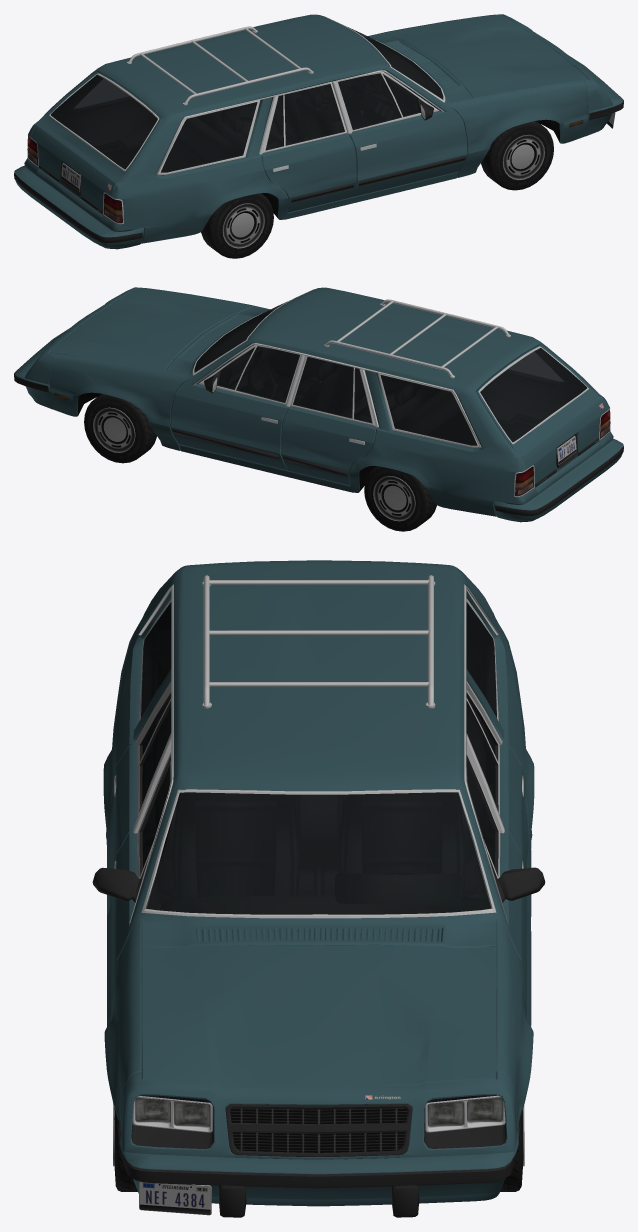
File: wagon.glb
3 renders of one model, top to bottom at view 1: azimuth 30°, elevation 25°; view 2: azimuth 150°, elevation 25°; view 3: azimuth 270°, elevation 25°, orthographic. The views are drawn at different scales.
Parts seen in each view (by area): view 1: Fairheaven_SW80_body001_Fairheaven_LT80_Bodymat_0, Fairheaven_SW80_Interior001_UCB_Interior_Trim_0, Fairheaven_LT84_Hood001_Fairheaven_LT80_Bodymat_0, Fairheaven_SW80_Glass_Body001_UCB_Lights_and_Glass_Transpere, Fairheaven_LT80_Interior_Trim005_UCB_Interior_Trim_0, Fairheaven_SW80_Glass_Rear001_UCB_Lights_and_Glass_Transpere, Fairheaven_SW84_Trim_UCB_BOTTOM_GT_0, Fairheaven_LT80_Trunkdoor001_Fairheaven_LT80_Bodymat_0, Fairheaven_LT80_WheelStock_FR002_RB1c_Tire_1k_0, Fairheaven_LT80_WheelStock_RR002_RB1c_Tire_1k_0, Fairheaven_LT80_Glass_Passanger007_UCB_Lights_and_Glass_Tran, Fairheaven_LT84_Bumper_Rear001_Fairheaven_LT80_Bodymat_0 (+10 smaller); view 2: Fairheaven_SW80_body001_Fairheaven_LT80_Bodymat_0, Fairheaven_SW80_Interior001_UCB_Interior_Trim_0, Fairheaven_LT84_Hood001_Fairheaven_LT80_Bodymat_0, Fairheaven_SW80_Glass_Body001_UCB_Lights_and_Glass_Transpere, Fairheaven_LT80_Interior_Trim005_UCB_Interior_Trim_0, Fairheaven_SW80_Glass_Rear001_UCB_Lights_and_Glass_Transpere, Fairheaven_SW84_Trim_UCB_BOTTOM_GT_0, Fairheaven_LT80_Trunkdoor001_Fairheaven_LT80_Bodymat_0, Fairheaven_LT80_WheelStock_FL002_RB1c_Tire_1k_0, Fairheaven_LT80_WheelStock_RL002_RB1c_Tire_1k_0, Fairheaven_LT80_Glass_Driver007_UCB_Lights_and_Glass_Transpe, Fairheaven_LT84_Bumper_Rear001_Fairheaven_LT80_Bodymat_0 (+11 smaller); view 3: Fairheaven_SW80_body001_Fairheaven_LT80_Bodymat_0, Fairheaven_LT84_Hood001_Fairheaven_LT80_Bodymat_0, Fairheaven_LT80_Interior_Trim005_UCB_Interior_Trim_0, Fairheaven_LT80_Windshield006_UCB_Lights_and_Glass_Transpere, Fairheaven_LT84_Front_Plate_Inner001_UCB_BOTTOM_GT_0, Fairheaven_SW84_Trim_UCB_BOTTOM_GT_0, Fairheaven_LT84_Front_Plate001_Fairheaven_LT80_Bodymat_0, Fairheaven_LT84_Bumper_front001_Fairheaven_LT80_Bodymat_0, Fairheaven_LT84_Bumper_front_Inner001_UCB_BOTTOM_GT_0, Fairheaven_SW80_Glass_Body001_UCB_Lights_and_Glass_Transpere, Fairheaven_SW80_Interior001_UCB_Interior_Trim_0, Fairheaven_SW80_Roofrack001_UCB_BOTTOM_GT_0 (+5 smaller).
Boxes of the visible parts, left/top/right/bottom form: Fairheaven_SW80_body001_Fairheaven_LT80_Bodymat_0: left=24, top=14, right=587, bottom=243; Fairheaven_SW80_Interior001_UCB_Interior_Trim_0: left=38, top=38, right=442, bottom=175; Fairheaven_LT84_Hood001_Fairheaven_LT80_Bodymat_0: left=384, top=15, right=588, bottom=98; Fairheaven_SW80_Glass_Body001_UCB_Lights_and_Glass_Transpere: left=75, top=79, right=344, bottom=172; Fairheaven_LT80_Interior_Trim005_UCB_Interior_Trim_0: left=197, top=42, right=443, bottom=150; Fairheaven_SW80_Glass_Rear001_UCB_Lights_and_Glass_Transpere: left=50, top=74, right=157, bottom=169; Fairheaven_SW84_Trim_UCB_BOTTOM_GT_0: left=27, top=16, right=465, bottom=224; Fairheaven_LT80_Trunkdoor001_Fairheaven_LT80_Bodymat_0: left=31, top=71, right=161, bottom=214; Fairheaven_LT80_WheelStock_FR002_RB1c_Tire_1k_0: left=481, top=121, right=553, bottom=190; Fairheaven_LT80_WheelStock_RR002_RB1c_Tire_1k_0: left=201, top=193, right=273, bottom=258; Fairheaven_LT80_Glass_Passanger007_UCB_Lights_and_Glass_Tran: left=338, top=73, right=419, bottom=129; Fairheaven_LT84_Bumper_Rear001_Fairheaven_LT80_Bodymat_0: left=14, top=165, right=143, bottom=249; Fairheaven_SW80_body001_Fairheaven_LT80_Bodymat_0: left=50, top=287, right=613, bottom=516; Fairheaven_SW80_Interior001_UCB_Interior_Trim_0: left=197, top=311, right=586, bottom=448; Fairheaven_LT84_Hood001_Fairheaven_LT80_Bodymat_0: left=49, top=288, right=253, bottom=371; Fairheaven_SW80_Glass_Body001_UCB_Lights_and_Glass_Transpere: left=293, top=352, right=563, bottom=445; Fairheaven_LT80_Interior_Trim005_UCB_Interior_Trim_0: left=195, top=318, right=440, bottom=423; Fairheaven_SW80_Glass_Rear001_UCB_Lights_and_Glass_Transpere: left=480, top=348, right=587, bottom=442; Fairheaven_SW84_Trim_UCB_BOTTOM_GT_0: left=172, top=289, right=610, bottom=497; Fairheaven_LT80_Trunkdoor001_Fairheaven_LT80_Bodymat_0: left=476, top=345, right=606, bottom=487; Fairheaven_LT80_WheelStock_FL002_RB1c_Tire_1k_0: left=84, top=394, right=156, bottom=463; Fairheaven_LT80_WheelStock_RL002_RB1c_Tire_1k_0: left=364, top=466, right=436, bottom=531; Fairheaven_LT80_Glass_Driver007_UCB_Lights_and_Glass_Transpe: left=218, top=346, right=299, bottom=402; Fairheaven_LT84_Bumper_Rear001_Fairheaven_LT80_Bodymat_0: left=494, top=439, right=623, bottom=522; Fairheaven_SW80_body001_Fairheaven_LT80_Bodymat_0: left=103, top=560, right=534, bottom=1128; Fairheaven_LT84_Hood001_Fairheaven_LT80_Bodymat_0: left=141, top=944, right=496, bottom=1086; Fairheaven_LT80_Interior_Trim005_UCB_Interior_Trim_0: left=145, top=716, right=492, bottom=914; Fairheaven_LT80_Windshield006_UCB_Lights_and_Glass_Transpere: left=145, top=792, right=492, bottom=914; Fairheaven_LT84_Front_Plate_Inner001_UCB_BOTTOM_GT_0: left=131, top=1095, right=506, bottom=1156; Fairheaven_SW84_Trim_UCB_BOTTOM_GT_0: left=92, top=584, right=545, bottom=1025; Fairheaven_LT84_Front_Plate001_Fairheaven_LT80_Bodymat_0: left=121, top=1071, right=516, bottom=1159; Fairheaven_LT84_Bumper_front001_Fairheaven_LT80_Bodymat_0: left=119, top=1127, right=518, bottom=1206; Fairheaven_LT84_Bumper_front_Inner001_UCB_BOTTOM_GT_0: left=119, top=1145, right=518, bottom=1217; Fairheaven_SW80_Glass_Body001_UCB_Lights_and_Glass_Transpere: left=141, top=602, right=496, bottom=803; Fairheaven_SW80_Interior001_UCB_Interior_Trim_0: left=141, top=620, right=496, bottom=910; Fairheaven_SW80_Roofrack001_UCB_BOTTOM_GT_0: left=202, top=575, right=435, bottom=708.
Size of the model in its own units: 5.03 by 1.4 by 1.86.
8 materials, 7 textured.
